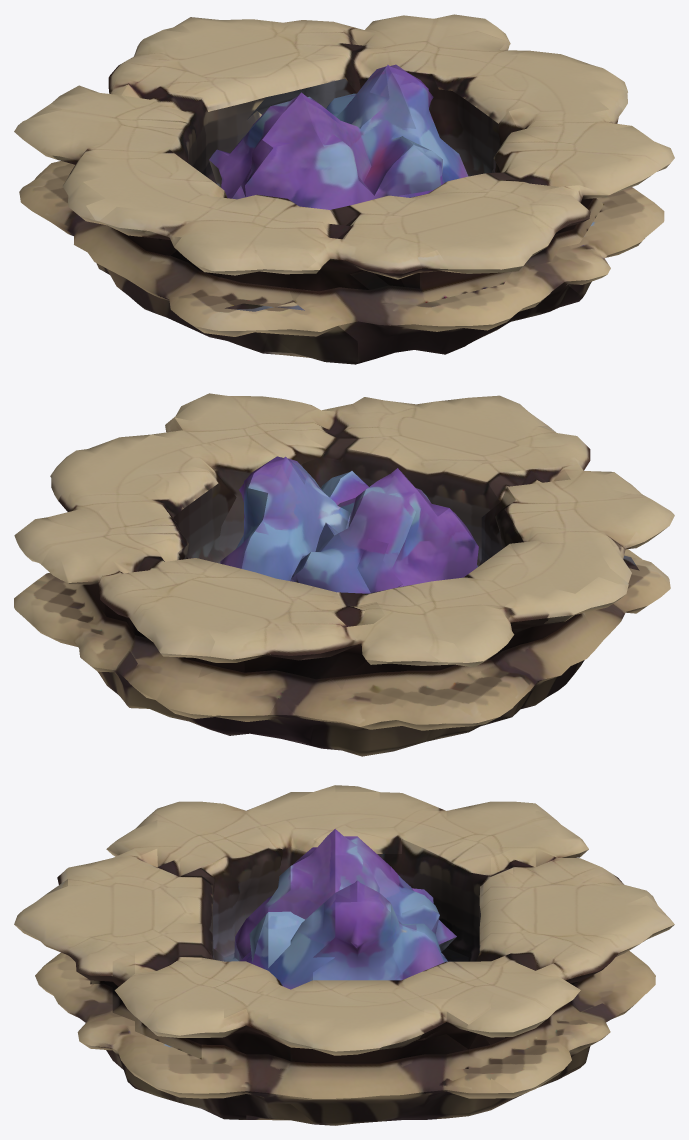
Rendered from CaveExcavation.glb.
3 renders of one model, top to bottom at view 1: azimuth 30°, elevation 25°; view 2: azimuth 150°, elevation 25°; view 3: azimuth 270°, elevation 25°, orthographic. The views are drawn at different scales.
Visible parts, largest first — view 1: tmpgda7hpww.ply; view 2: tmpgda7hpww.ply; view 3: tmpgda7hpww.ply.
Part boxes in pixels (x1,y1,x2,y2): tmpgda7hpww.ply: (14, 14, 674, 364); tmpgda7hpww.ply: (14, 393, 674, 756); tmpgda7hpww.ply: (14, 785, 674, 1125).
Bounding box in the file's own units: 1.71 × 0.6029 × 1.82.
Materials: 1 (1 with a texture image).
